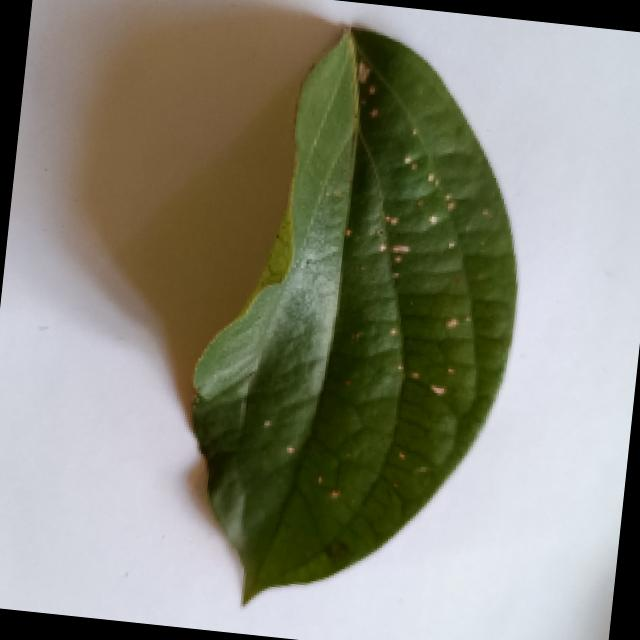pollu-disease: (168, 19, 542, 628)
